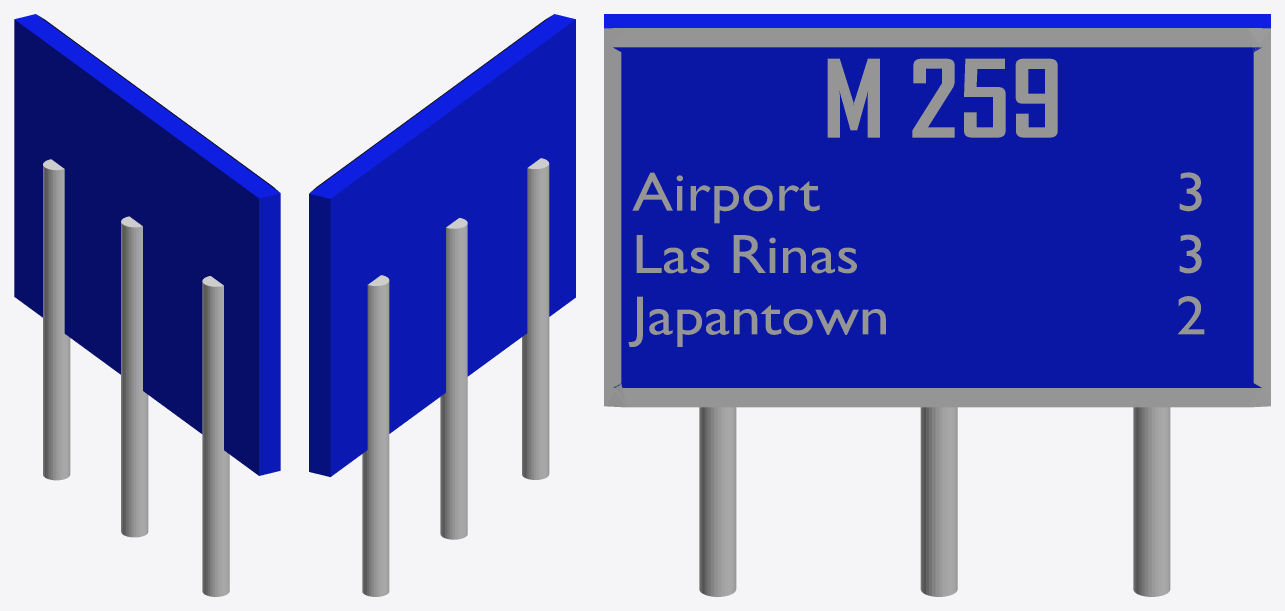
The model's file is UK_distance_sign_1.fbx.
3 renders of one model, left to right at view 1: azimuth 30°, elevation 25°; view 2: azimuth 150°, elevation 25°; view 3: azimuth 270°, elevation 25°, orthographic. The views are drawn at different scales.
Visible parts, largest first — view 1: Cube.001, Cylinder, Cylinder.001, Cylinder.002; view 2: Cube.001, Cylinder.001, Cylinder, Cylinder.002; view 3: Cube.001, Text, Cylinder, Cylinder.001, Cylinder.002, Text.005, Text.004, Text.001.
Part boxes in pixels (box(x1,y1,x2,y2)): Cube.001: box(14, 14, 280, 475); Cylinder: box(202, 276, 229, 596); Cylinder.001: box(43, 159, 70, 480); Cylinder.002: box(121, 216, 148, 537); Cube.001: box(309, 14, 575, 476); Cylinder.001: box(362, 275, 389, 596); Cylinder: box(522, 158, 549, 479); Cylinder.002: box(440, 218, 467, 539); Cube.001: box(604, 14, 1270, 407); Text: box(827, 58, 1057, 137); Cylinder: box(699, 407, 736, 596); Cylinder.001: box(1133, 407, 1170, 596); Cylinder.002: box(920, 407, 957, 596); Text.005: box(628, 296, 885, 346); Text.004: box(636, 235, 856, 273); Text.001: box(632, 172, 819, 223).
Size of the model in its own units: 6.34 by 68.74 by 72.02.
